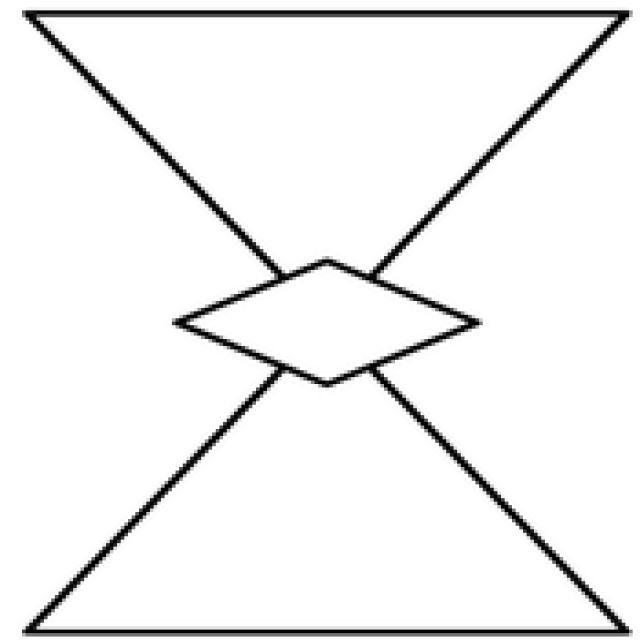Plug Valve: (30, 14, 625, 630)
